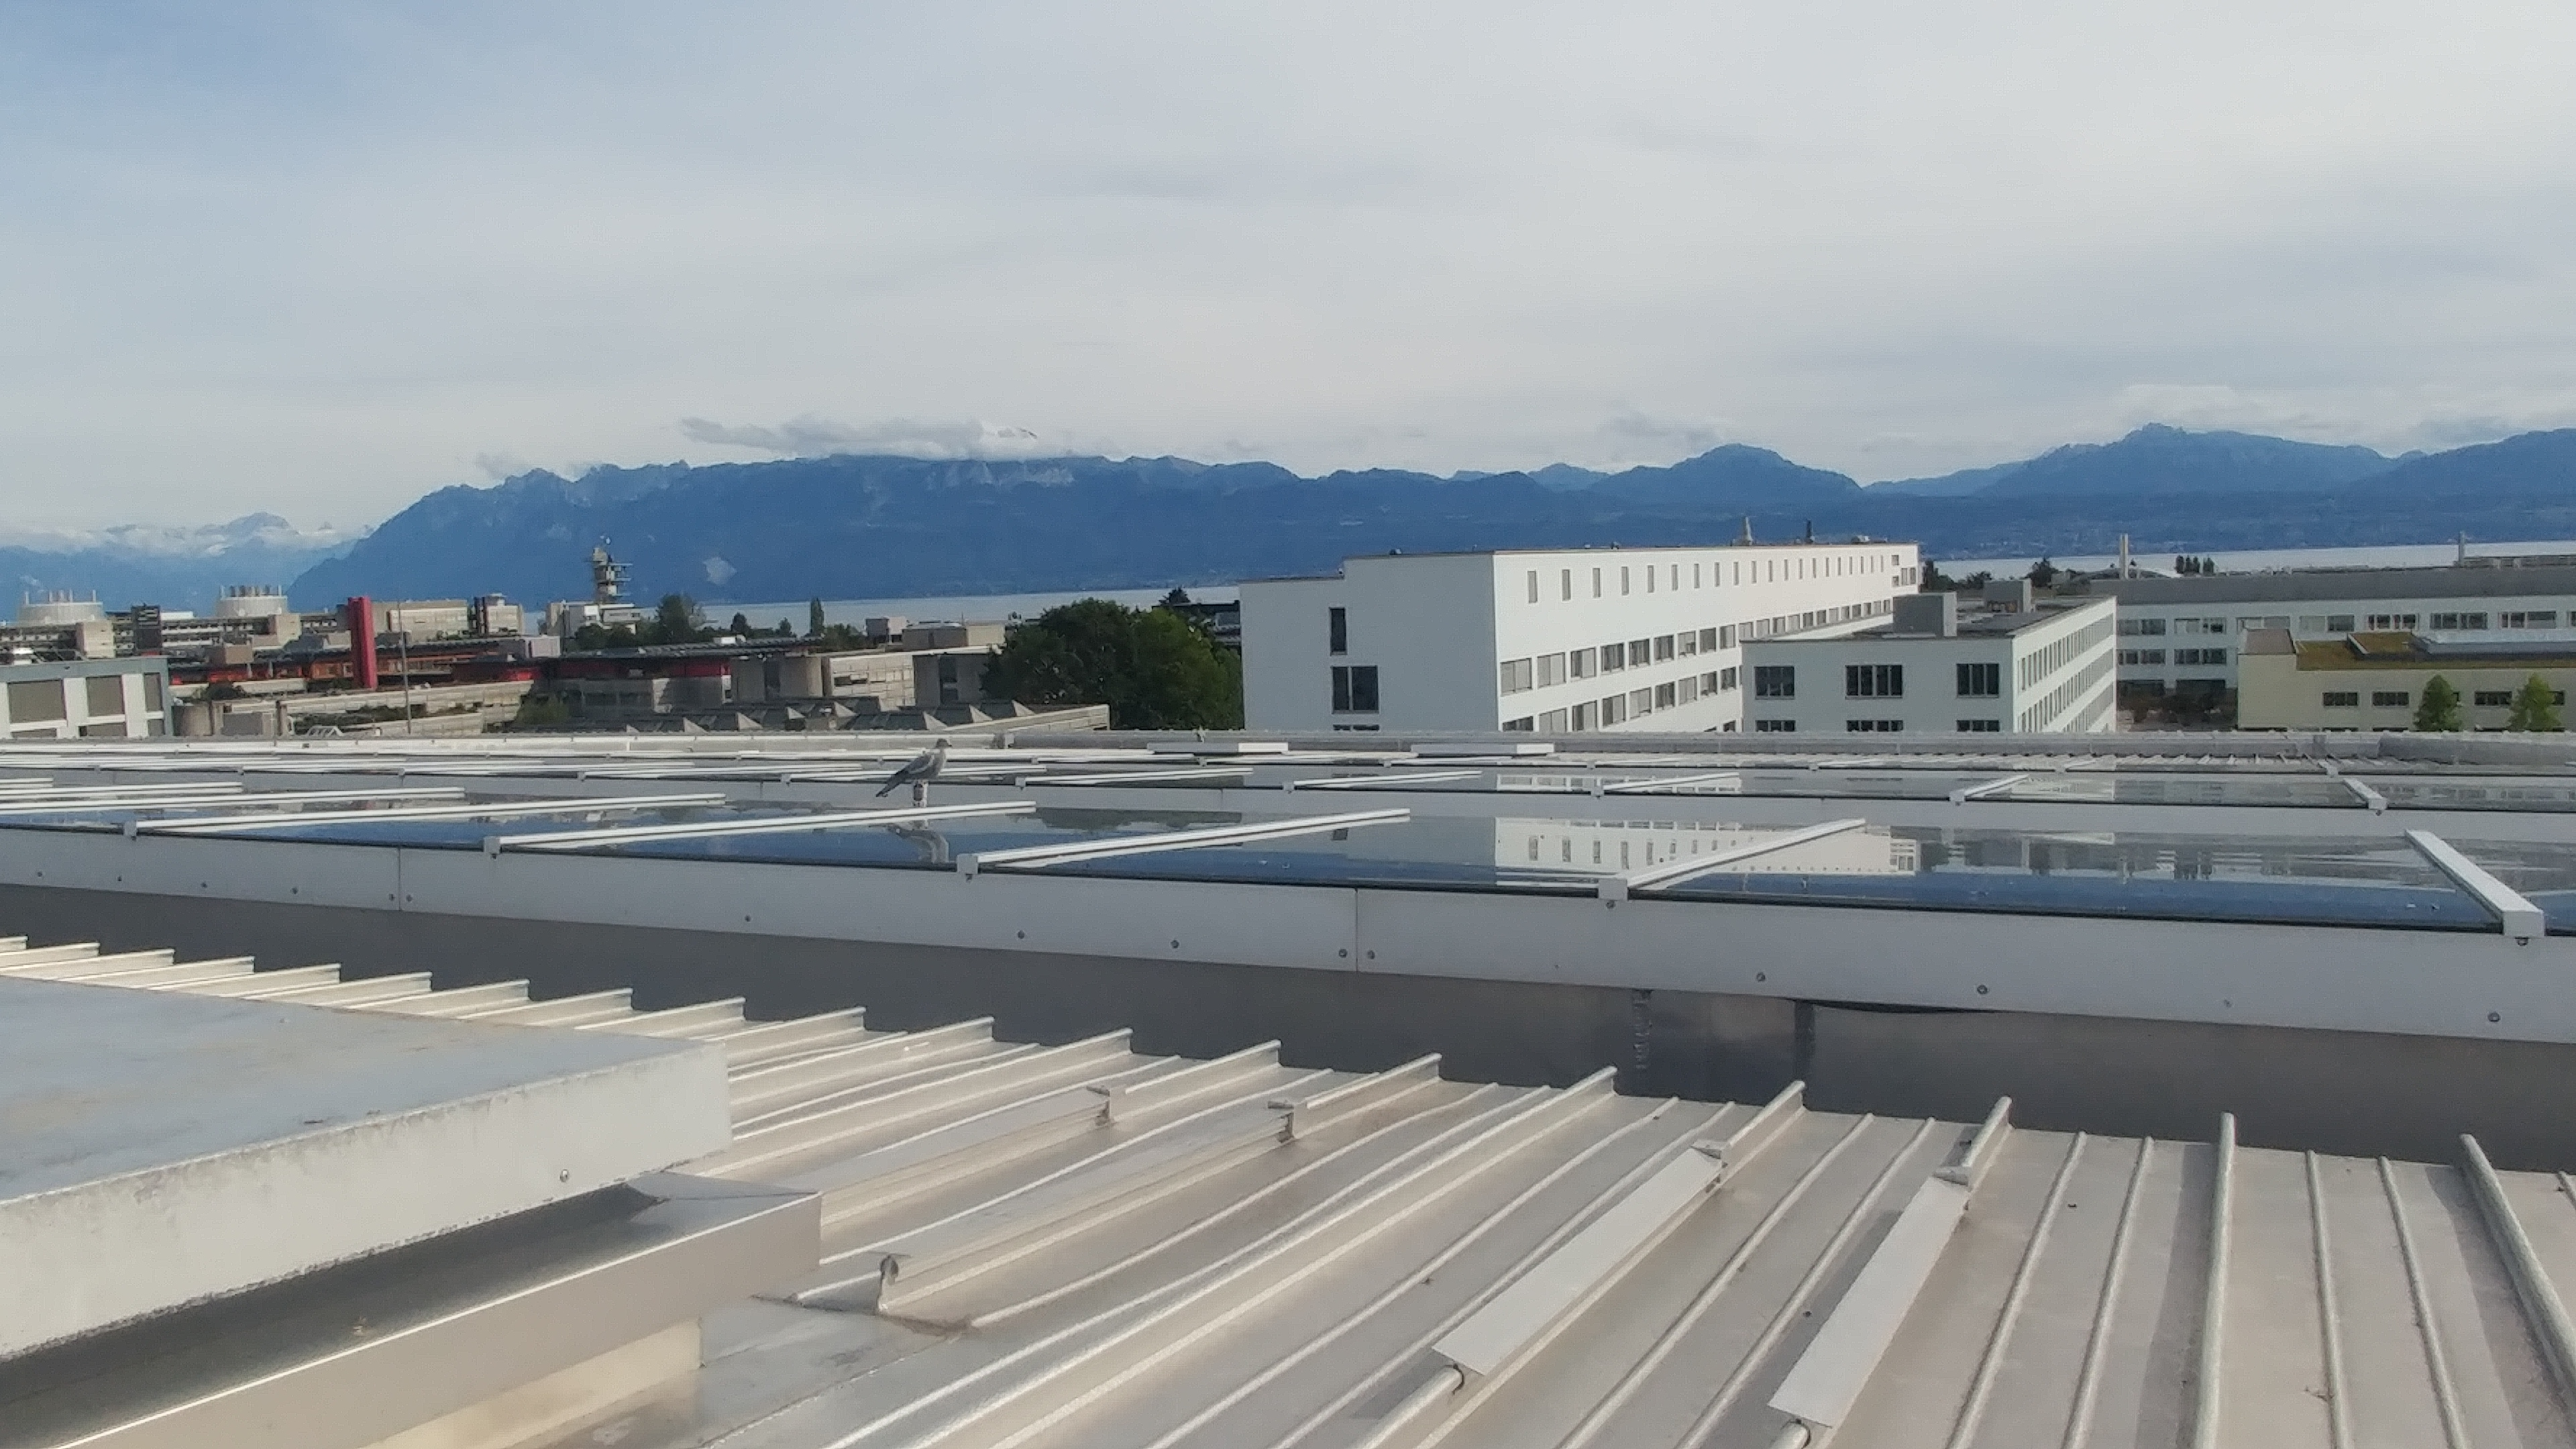Pigeon: (879, 731, 959, 810)
